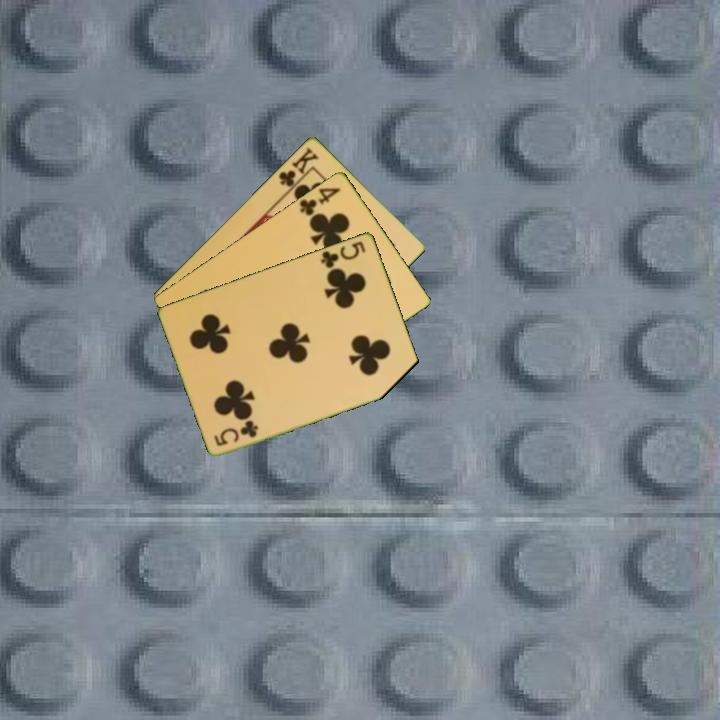4c: (296, 184, 344, 218)
5c: (317, 237, 369, 271), (210, 417, 261, 449)
Kc: (275, 143, 322, 195)
